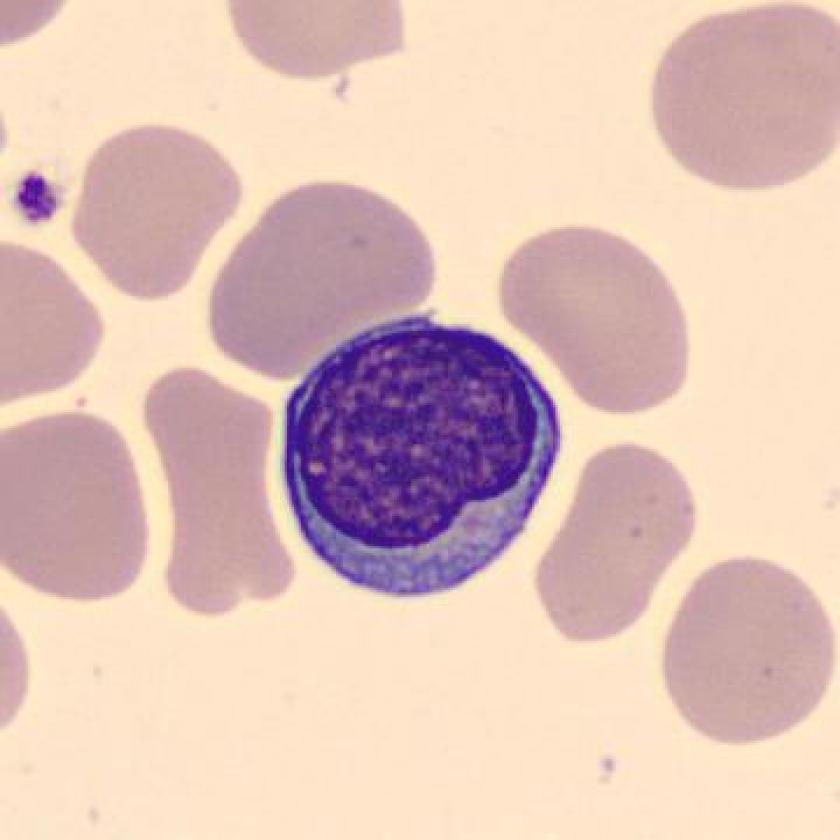lymphocyte: (255, 304, 582, 621)
platelets: (10, 163, 67, 232)
